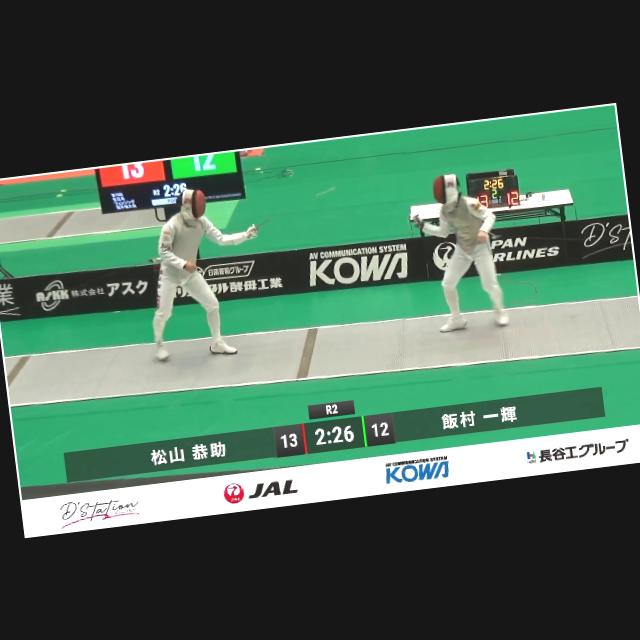blade: (246, 182, 343, 242)
